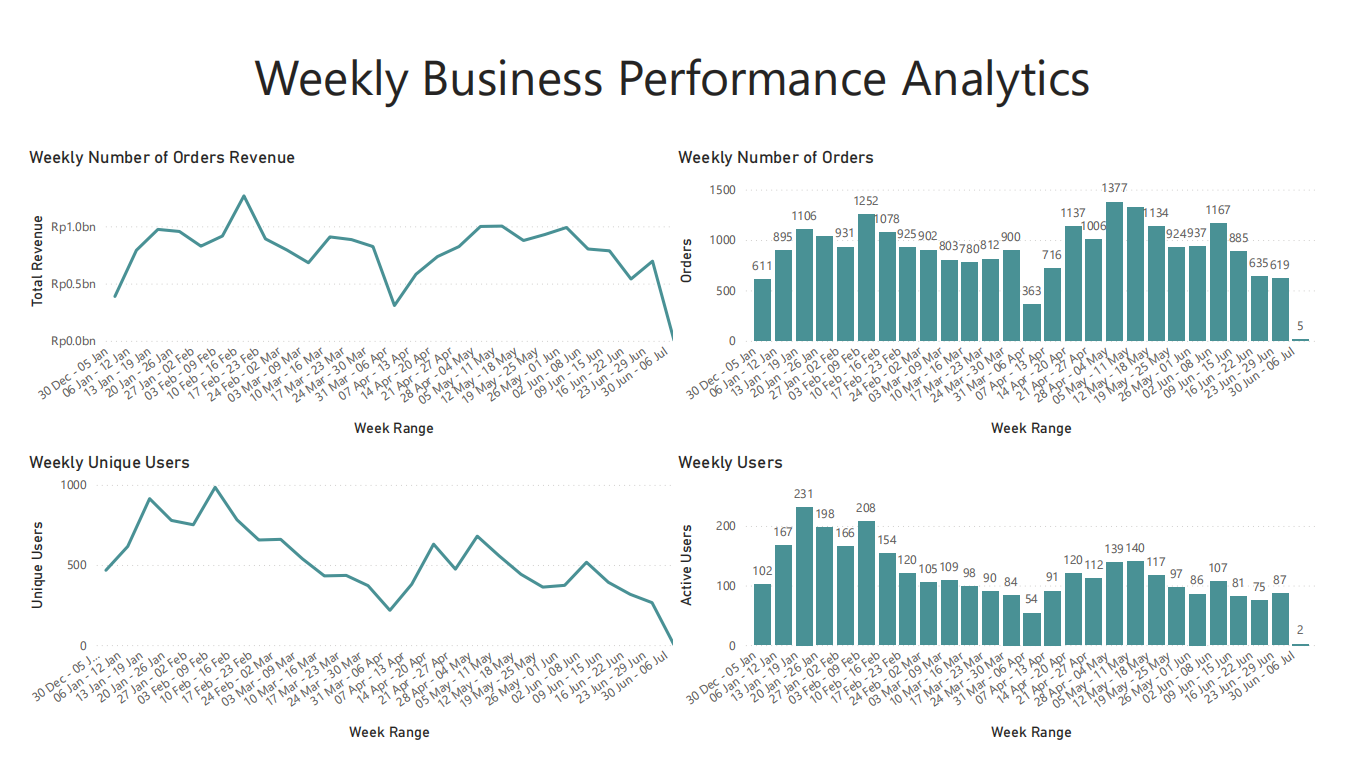

Layout of this report page (visuals, bound fields, positions):
{"tool":"powerbi","page":{"name":"Page 1","canvas":[1280,720],"ordinal":0},"visuals":[{"type":"lineChart","title":"Weekly Number of Orders Revenue","fields":{"Category":["DateTable.Week Range"],"Y":["Order Revenue.Total Revenue"]},"box":[0,121.9,654.2,290],"z":0},{"type":"columnChart","title":"Weekly Number of Orders","fields":{"Category":["DateTable.Week Range"],"Y":["Order.Orders"]},"box":[640.1,121.9,640.1,290],"z":1000},{"type":"lineChart","title":"Weekly Unique Users","fields":{"Category":["DateTable.Week Range"],"Y":["Product Link Shared.Unique Users"]},"box":[0,421.6,654,290],"z":2000},{"type":"columnChart","title":"Weekly Users","fields":{"Category":["DateTable.Week Range"],"Y":["Store View.Active Users"]},"box":[640.2,421.6,640.2,290.1],"z":3000},{"type":"textbox","box":[0,14.1,1280.3,89.4],"z":4000}]}

Visuals, with their boxes in screenshot pixels (x1, y1, x2, y2), scaled from the page's 1280x720 canvas onto the 1346x778 screenshot:
"Weekly Number of Orders Revenue" lineChart: bbox=[0, 132, 688, 445]
"Weekly Number of Orders" columnChart: bbox=[673, 132, 1345, 445]
"Weekly Unique Users" lineChart: bbox=[0, 456, 688, 769]
"Weekly Users" columnChart: bbox=[673, 456, 1345, 769]
textbox: bbox=[0, 15, 1345, 112]
